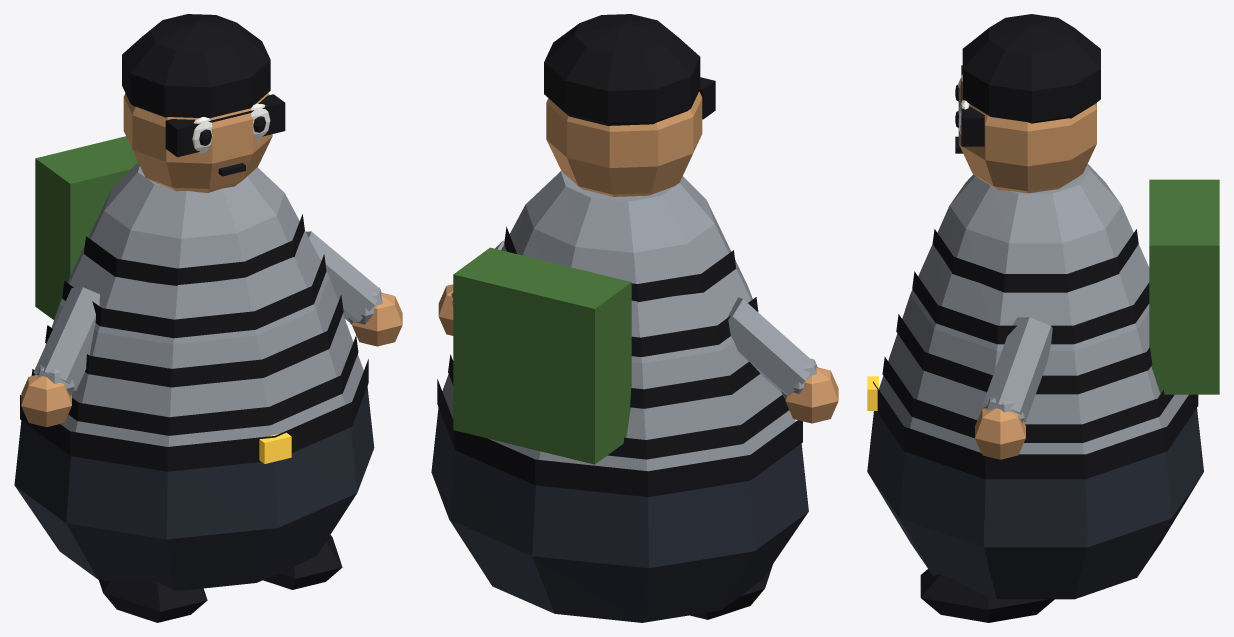
Rendered from npc_alumno.glb.
The picture shows the model from 3 angles, left to right: view 1: azimuth 30°, elevation 25°; view 2: azimuth 150°, elevation 25°; view 3: azimuth 270°, elevation 25°; orthographic projection. The views are drawn at different scales.
Visible parts, largest first — view 1: body_thief_grey, body_jeans, body_thief_black, cap_thief_black, props_backpack_green, body_black, head_skin_arena, arms_thief_grey, legs_black, arms_skin_arena, face_thief_black, face_white (+2 smaller); view 2: body_jeans, body_thief_grey, props_backpack_green, cap_thief_black, body_thief_black, head_skin_arena, body_black, arms_thief_grey, arms_skin_arena, legs_black; view 3: body_thief_grey, body_jeans, body_thief_black, props_backpack_green, cap_thief_black, head_skin_arena, body_black, arms_thief_grey, legs_black, arms_skin_arena, face_thief_black.
Part boxes in pixels (x1,y1,x2,y2): body_thief_grey: (45,162,363,446); body_jeans: (14,386,374,590); body_thief_black: (31,214,358,435); cap_thief_black: (122,14,270,118); props_backpack_green: (35,136,137,319); body_black: (20,359,368,471); head_skin_arena: (123,92,272,192); arms_thief_grey: (33,231,382,396); legs_black: (99,535,342,622); arms_skin_arena: (21,293,402,427); face_thief_black: (165,94,285,157); face_white: (192,103,270,153); body_jeans: (431,407,808,622); body_thief_grey: (442,171,795,471); props_backpack_green: (453,247,631,464); cap_thief_black: (544,14,700,125); body_thief_black: (448,226,788,459); head_skin_arena: (546,91,702,196); body_black: (437,379,802,497); arms_thief_grey: (451,240,817,398); arms_skin_arena: (438,284,838,423); legs_black: (690,564,772,619); body_thief_grey: (879,164,1188,454); body_jeans: (867,408,1203,599); body_thief_black: (882,229,1174,442); props_backpack_green: (1149,179,1219,394); cap_thief_black: (962,14,1100,123); head_skin_arena: (958,82,1096,193); body_black: (873,381,1198,479); arms_thief_grey: (983,317,1052,422); legs_black: (920,569,1054,622); arms_skin_arena: (975,408,1025,459); face_thief_black: (961,65,984,146).
Bounding box in the file's own units: 1.13 × 1.57 × 0.9.
